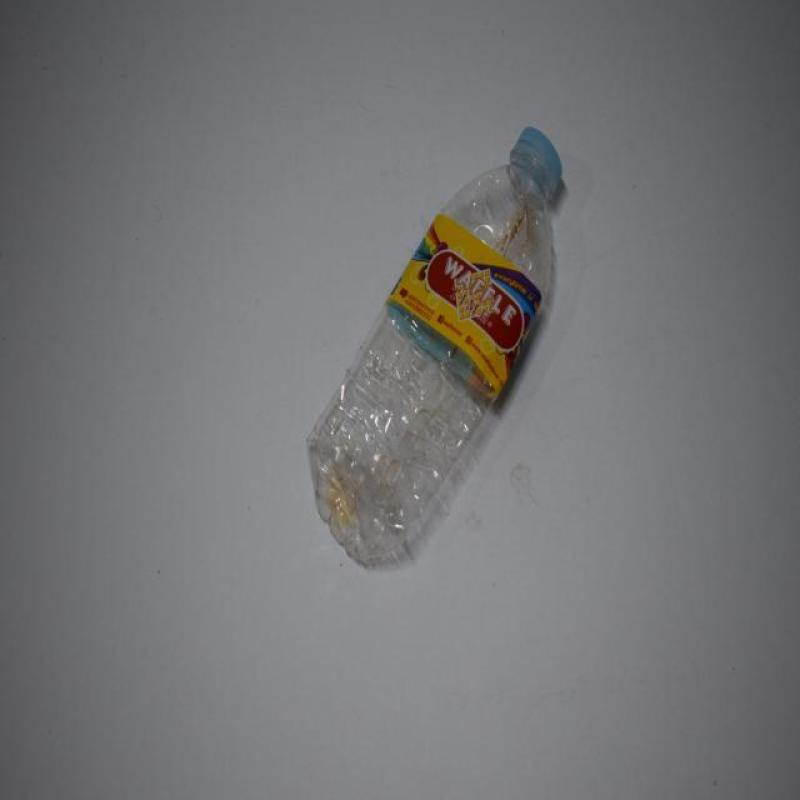botella: (307, 125, 563, 570)
